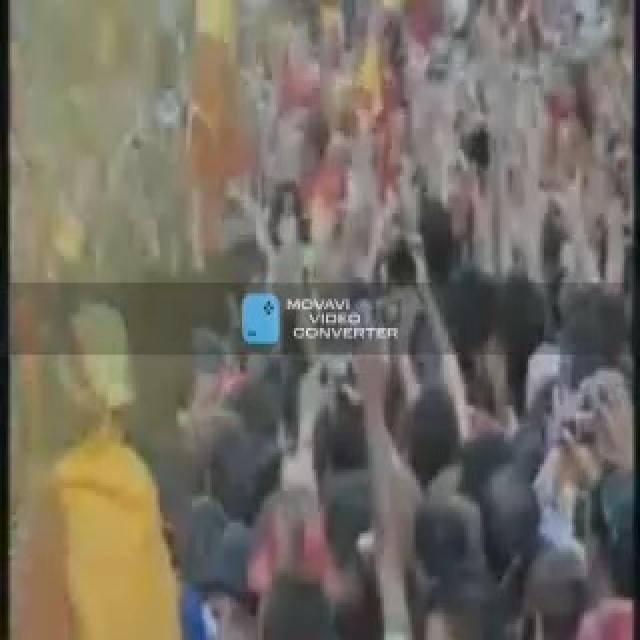non-voilence: (6, 0, 636, 637), (284, 293, 400, 344)
